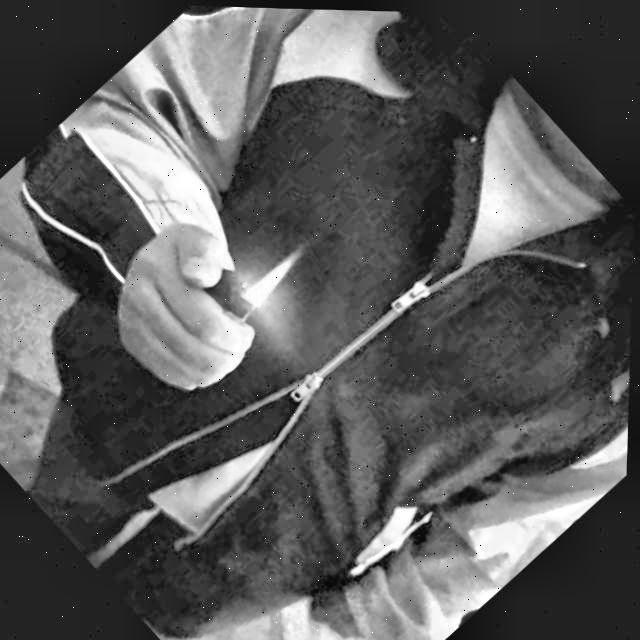Fire: (251, 247, 305, 302)
